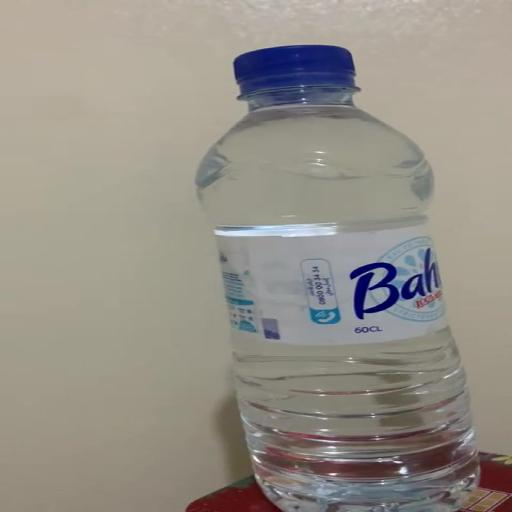bouteille conformite: (197, 45, 478, 511)
